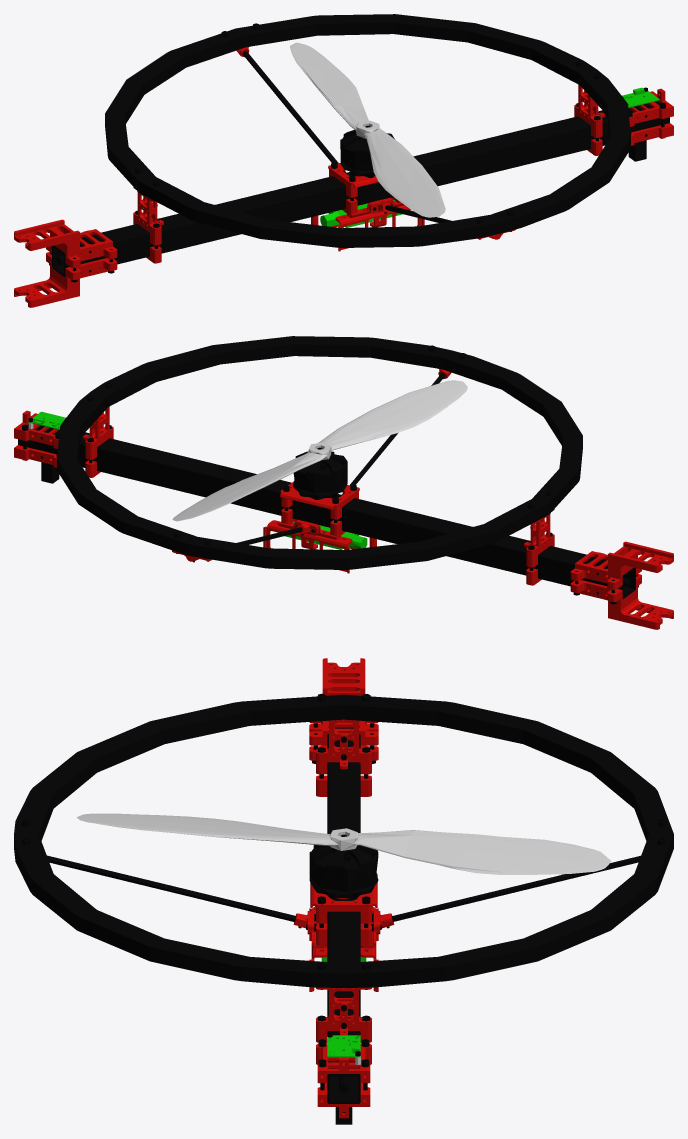
The model's file is end_link.dae.
The picture shows the model from 3 angles, top to bottom: view 1: azimuth 30°, elevation 25°; view 2: azimuth 150°, elevation 25°; view 3: azimuth 270°, elevation 25°; orthographic projection. The views are drawn at different scales.
Parts seen in each view (by area): view 1: End_Link_Black_Part, End_Link_Red_Part, End_Link_Grey_Part, End_Link_Green_Part; view 2: End_Link_Black_Part, End_Link_Red_Part, End_Link_Grey_Part, End_Link_Green_Part; view 3: End_Link_Black_Part, End_Link_Grey_Part, End_Link_Red_Part, End_Link_Green_Part.
Part boxes in pixels (x1=…): End_Link_Black_Part: x1=49, y1=14, x2=669, y2=282; End_Link_Red_Part: x1=14, y1=46, x2=673, y2=307; End_Link_Grey_Part: x1=290, y1=42, x2=445, y2=217; End_Link_Green_Part: x1=320, y1=87, x2=659, y2=227; End_Link_Black_Part: x1=18, y1=336, x2=638, y2=604; End_Link_Red_Part: x1=14, y1=368, x2=673, y2=629; End_Link_Grey_Part: x1=28, y1=380, x2=467, y2=521; End_Link_Green_Part: x1=28, y1=411, x2=367, y2=549; End_Link_Black_Part: x1=14, y1=693, x2=673, y2=1124; End_Link_Grey_Part: x1=76, y1=813, x2=611, y2=1064; End_Link_Red_Part: x1=293, y1=658, x2=394, y2=1118; End_Link_Green_Part: x1=321, y1=956, x2=366, y2=1057.
Size of the model in its own units: 0.5605 by 0.4 by 0.0912.
